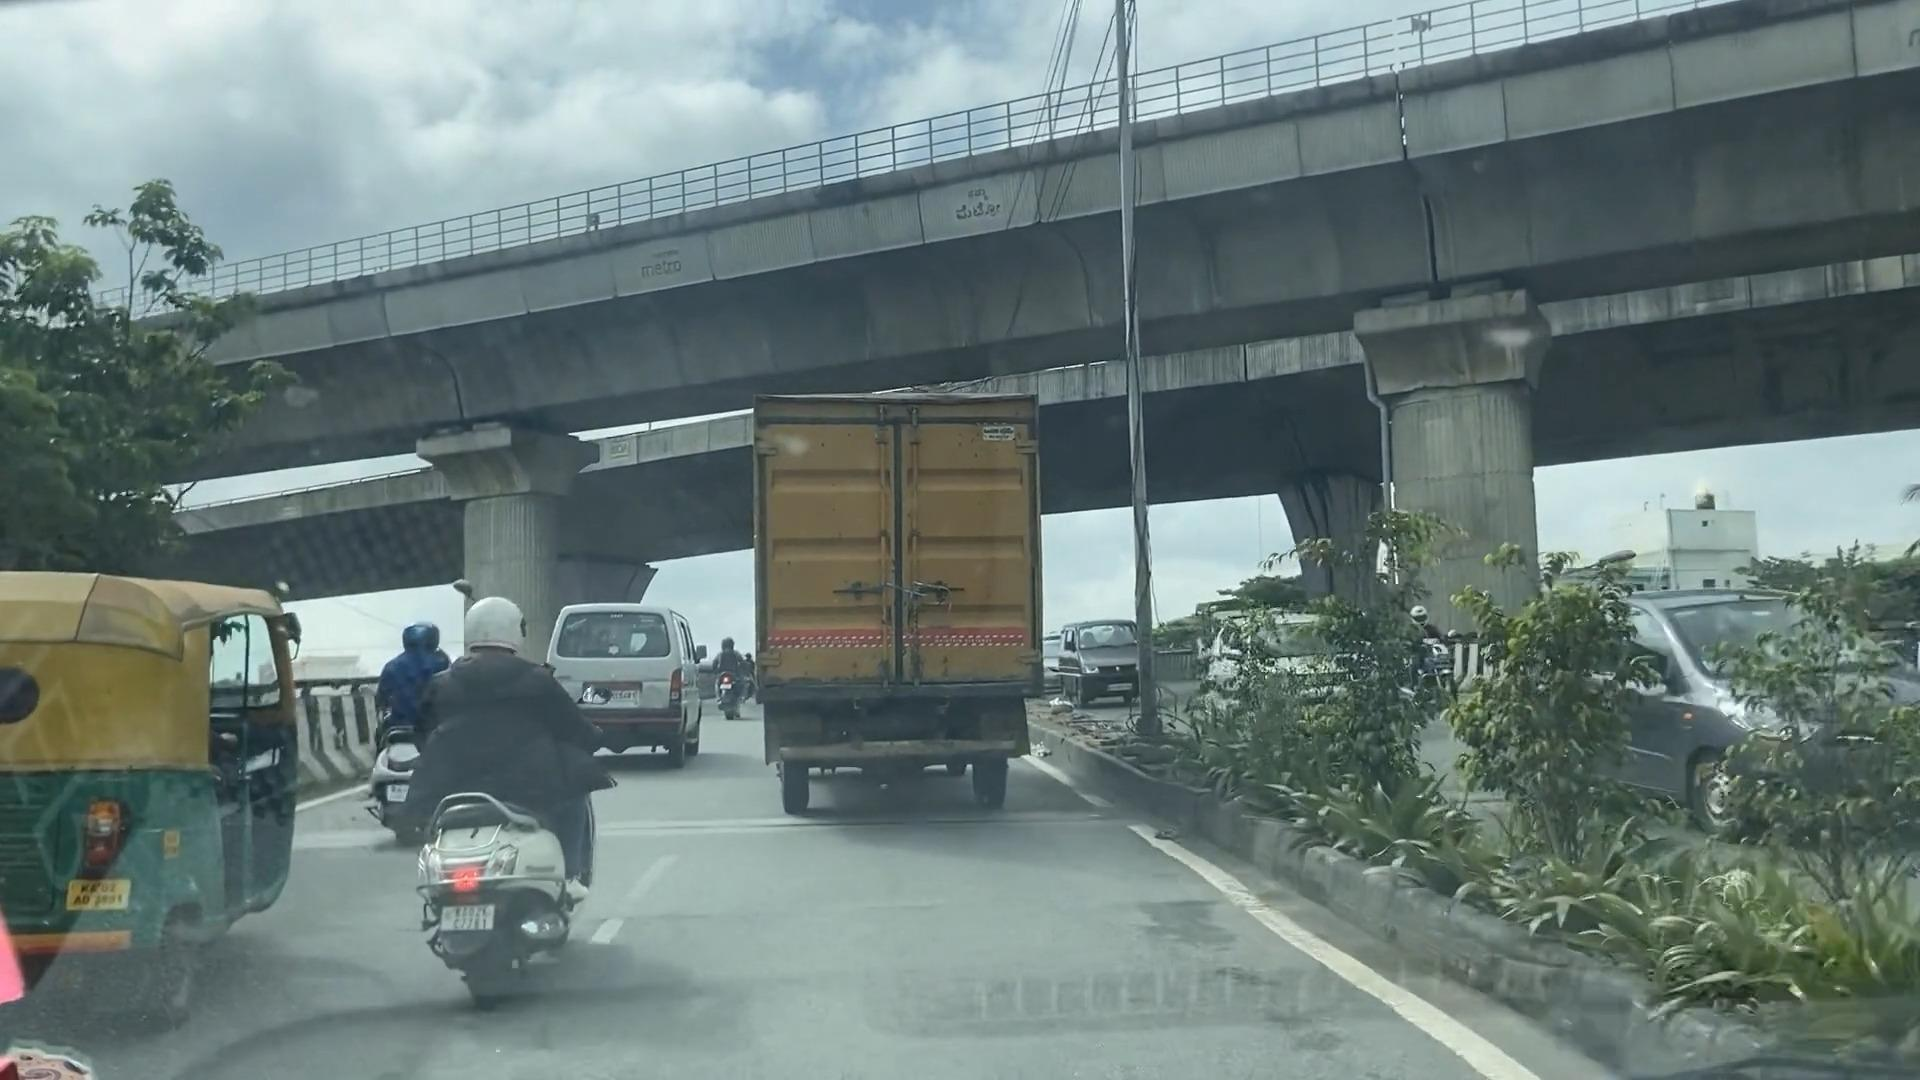HMV: (753, 390, 1034, 790)
LMV: (400, 583, 576, 1000)
